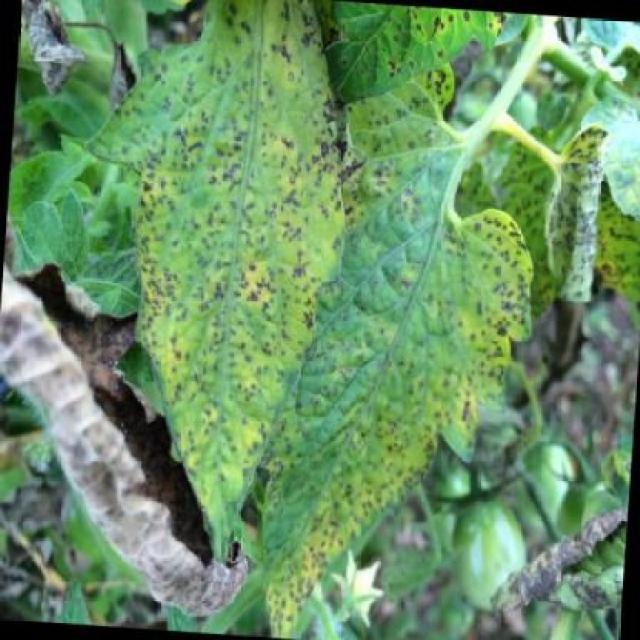Septoria leaf spot: (240, 77, 578, 638), (82, 0, 363, 591)
